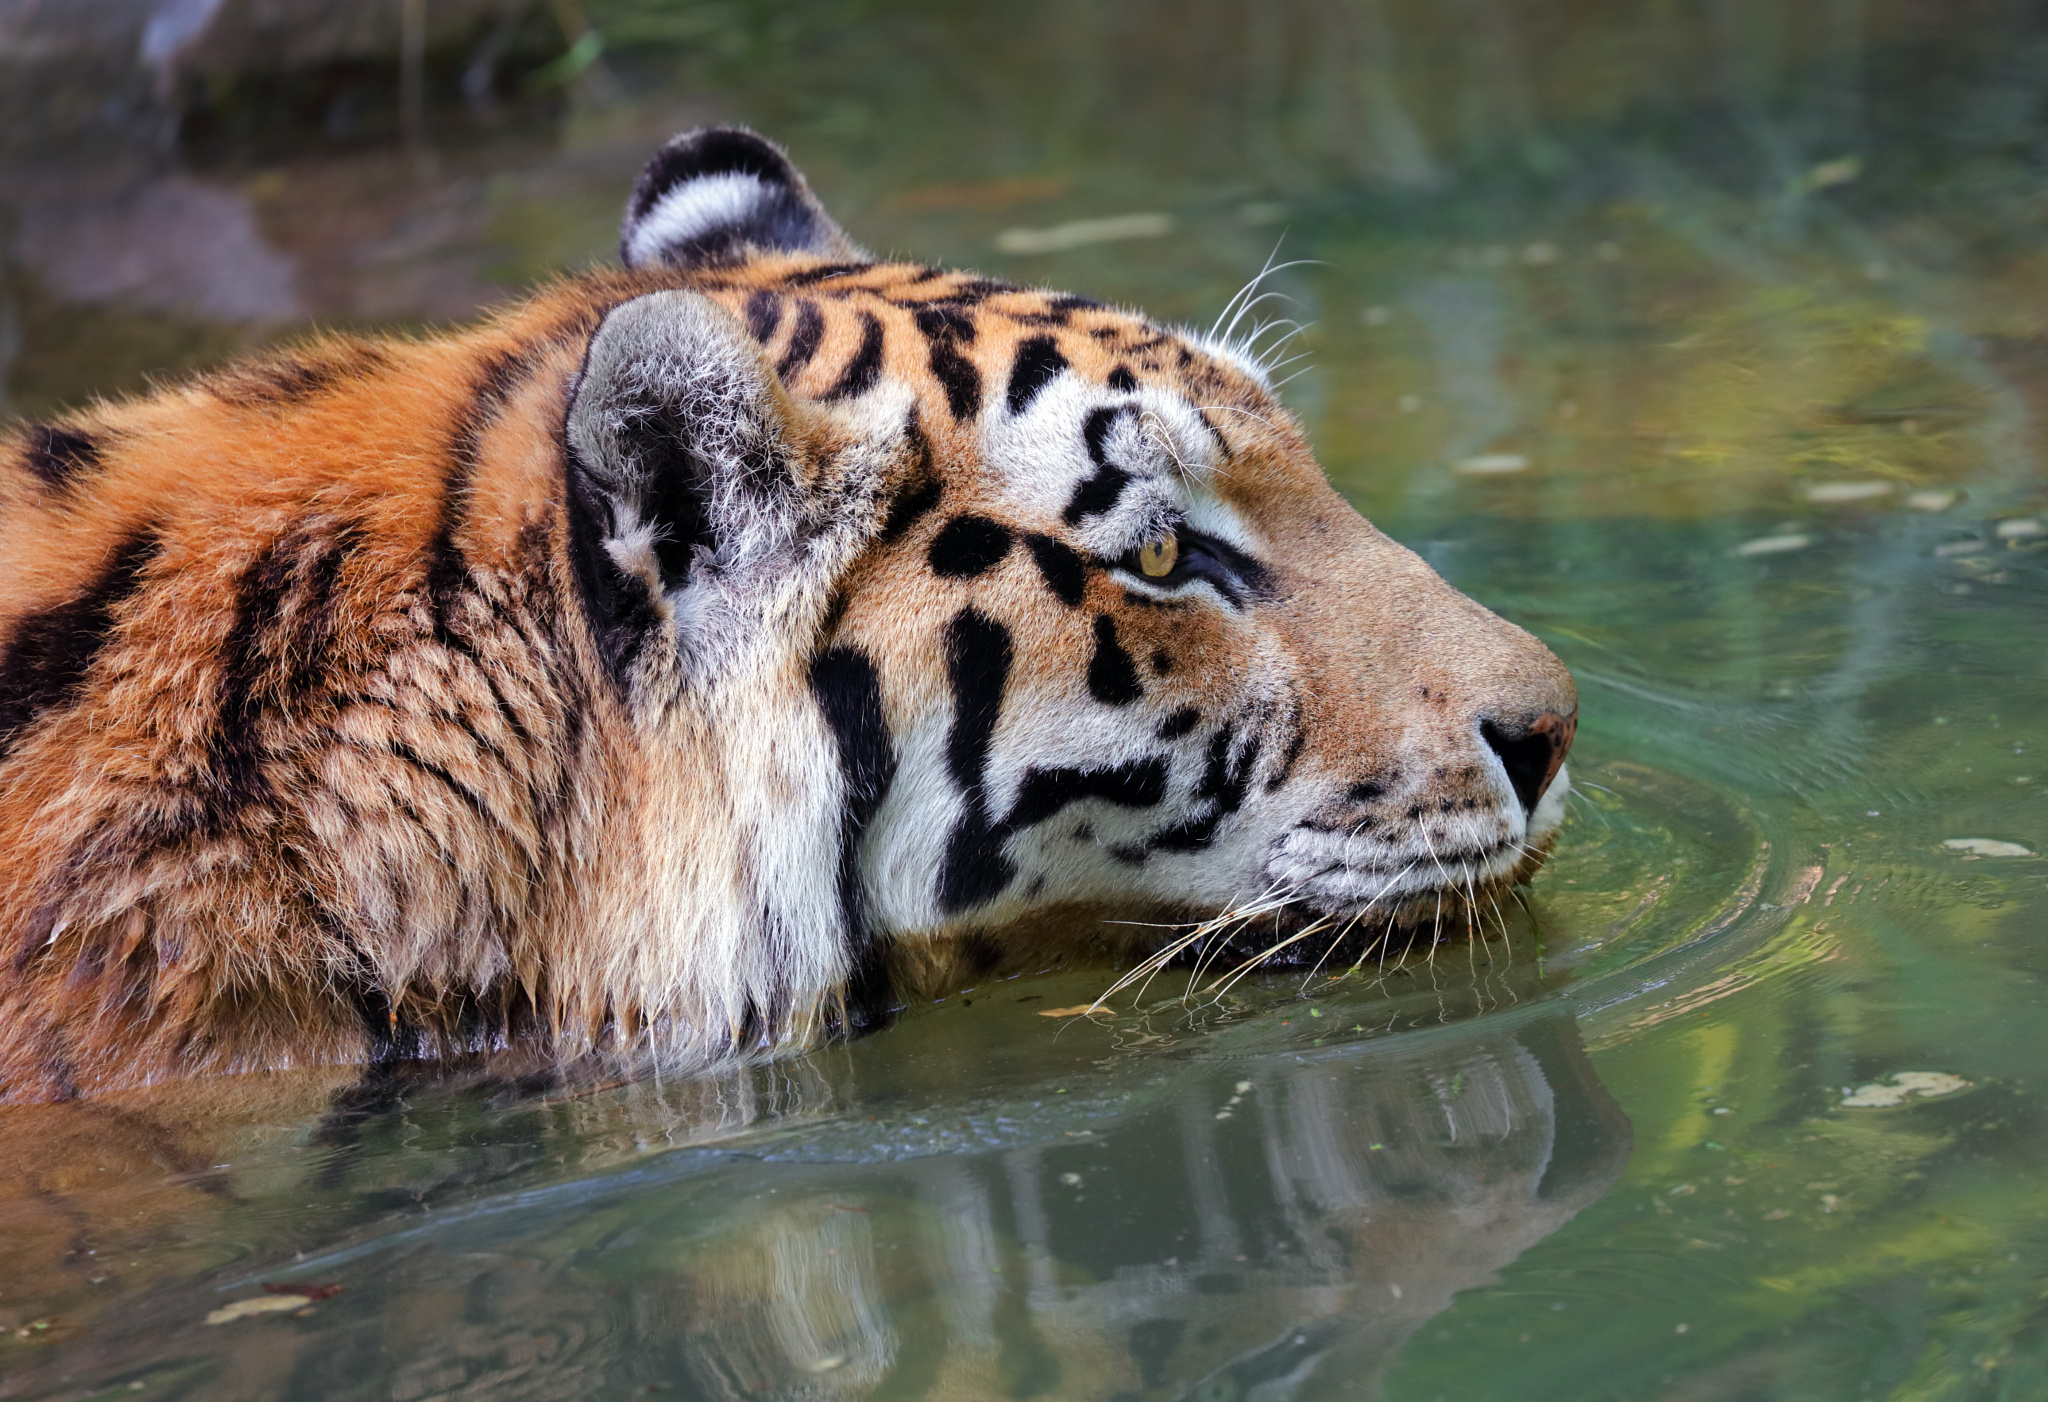tiger: (103, 154, 1558, 1083)
